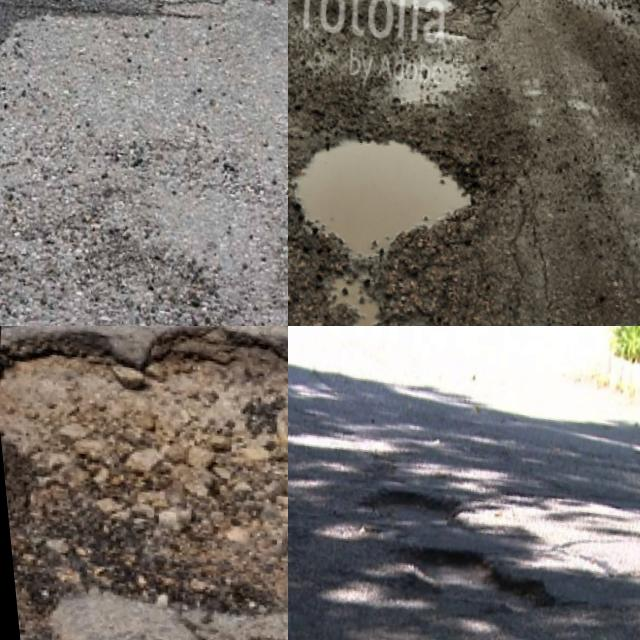Potholes: (0, 326, 288, 640), (288, 407, 567, 640), (288, 74, 490, 300), (0, 0, 286, 76), (288, 0, 515, 91), (288, 357, 396, 548), (489, 0, 636, 60)
